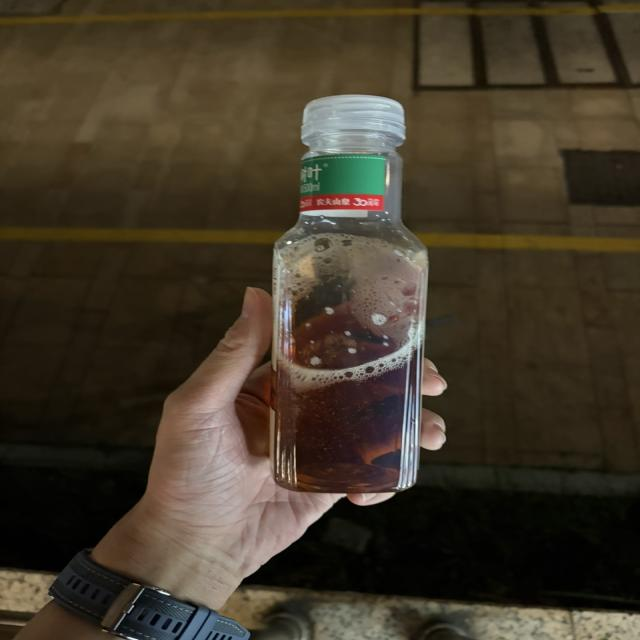medium: (270, 96, 428, 493)
